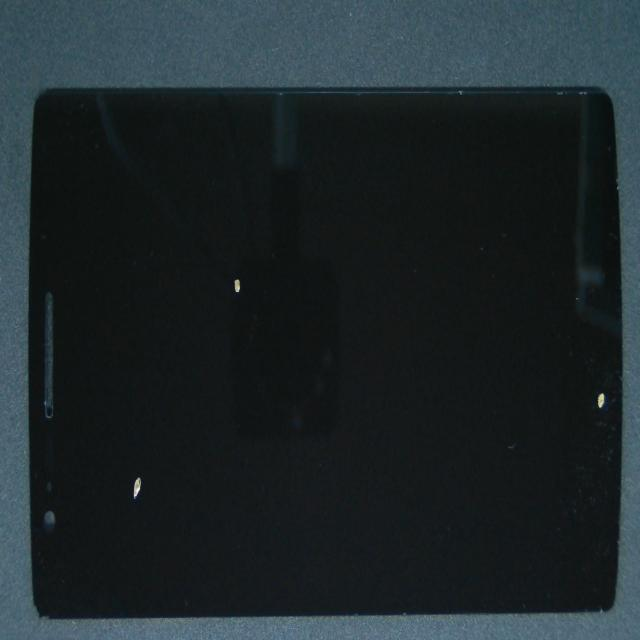Scratches: (220, 252, 276, 326), (561, 381, 617, 431), (117, 467, 167, 512)
